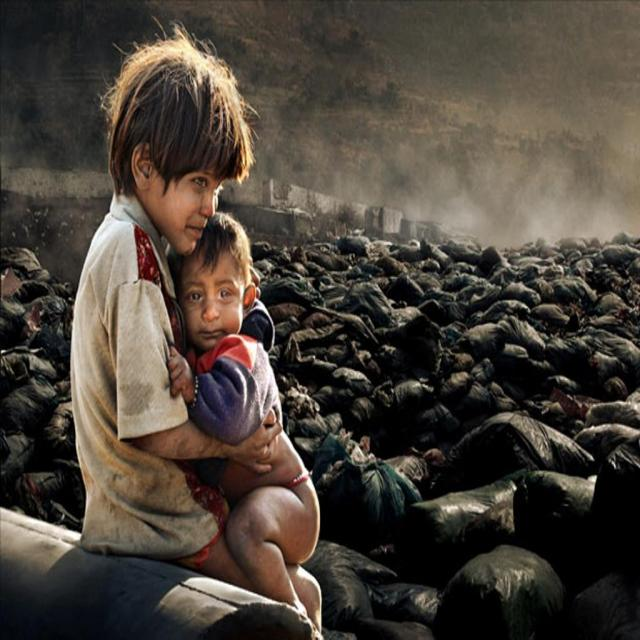nomask: (162, 122, 230, 255), (180, 254, 242, 353)
